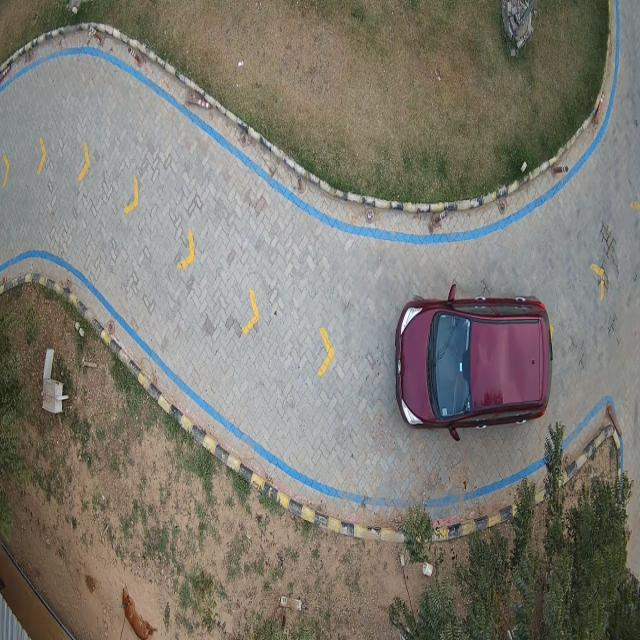car: (395, 284, 552, 439)
